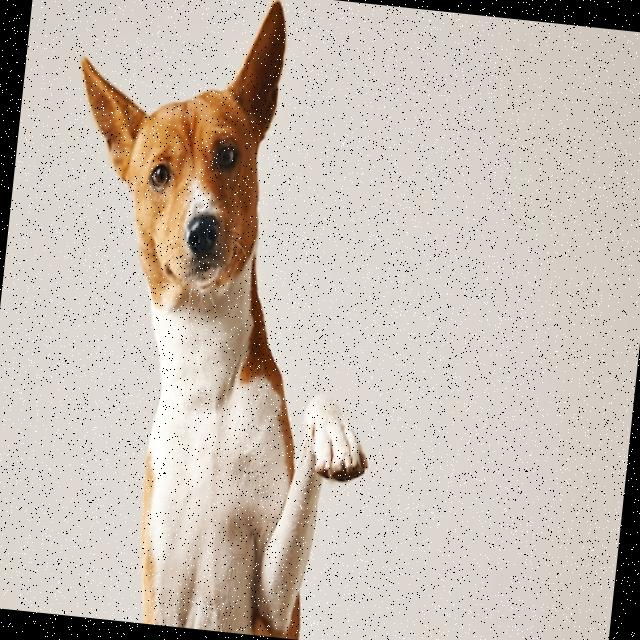Dog: (23, 0, 416, 640)
